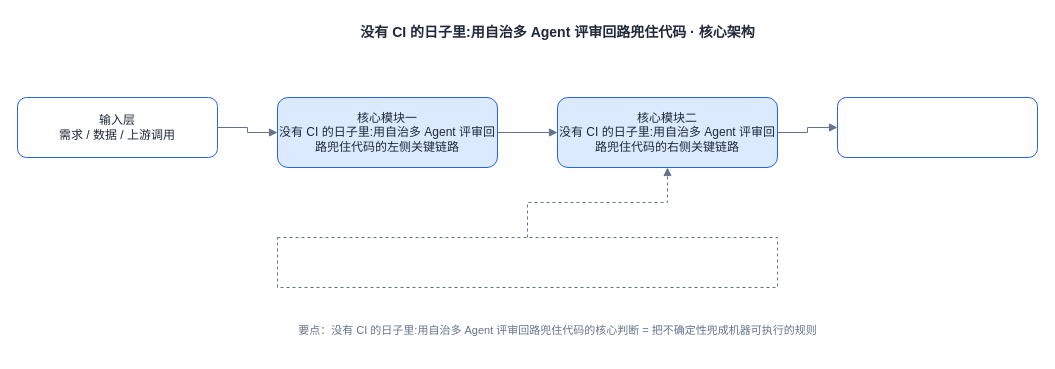
The diagram is 1055 pixels wide and 369 high, and some of its shapes have lost their labels. The centre of each missing label's shape, as x and y in pixels:
兜底层 质量 / 安全 / 监控 / 评审: the point at 527,262
输出 / 结果 产物 / 上线 / 反馈: the point at 937,127
